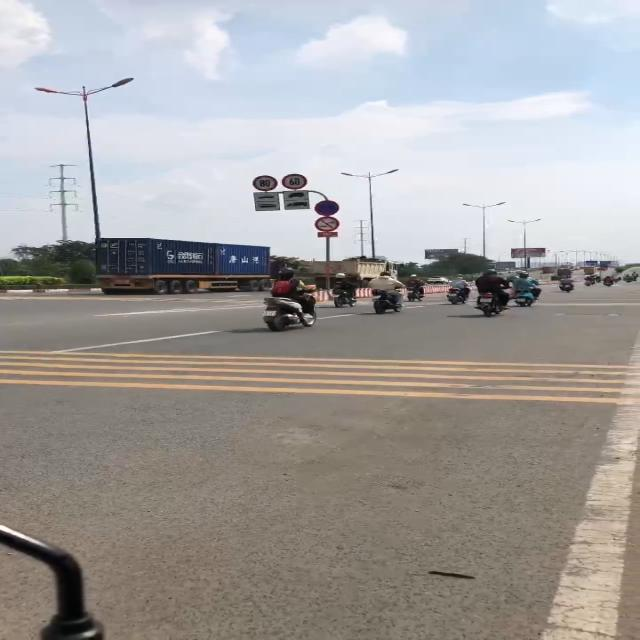Bien bao toc do toi da cho phep: (278, 172, 310, 190), (252, 174, 279, 191)
